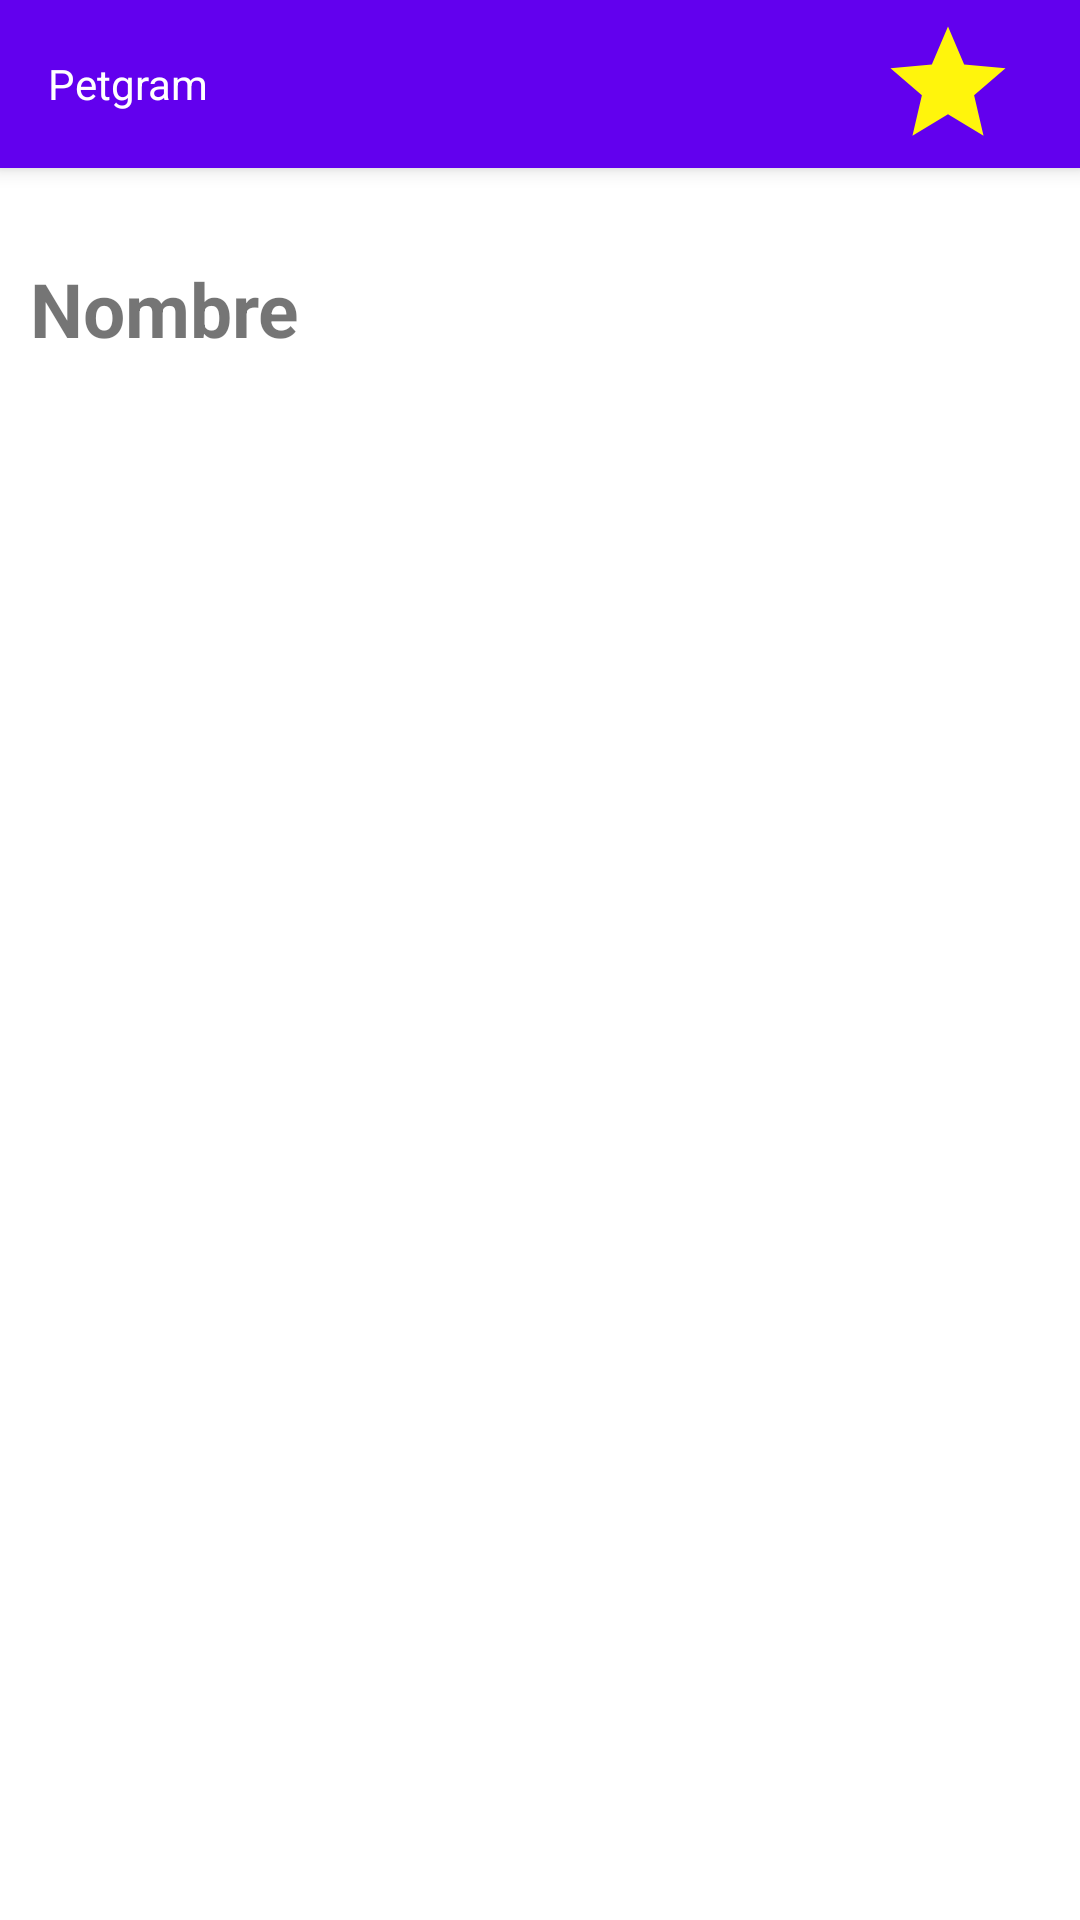

Icon bounding boxes for this 1080w x 1920h phone screenshot, format (x1, y1, x2, y2):
star: (890, 27, 1006, 136)
